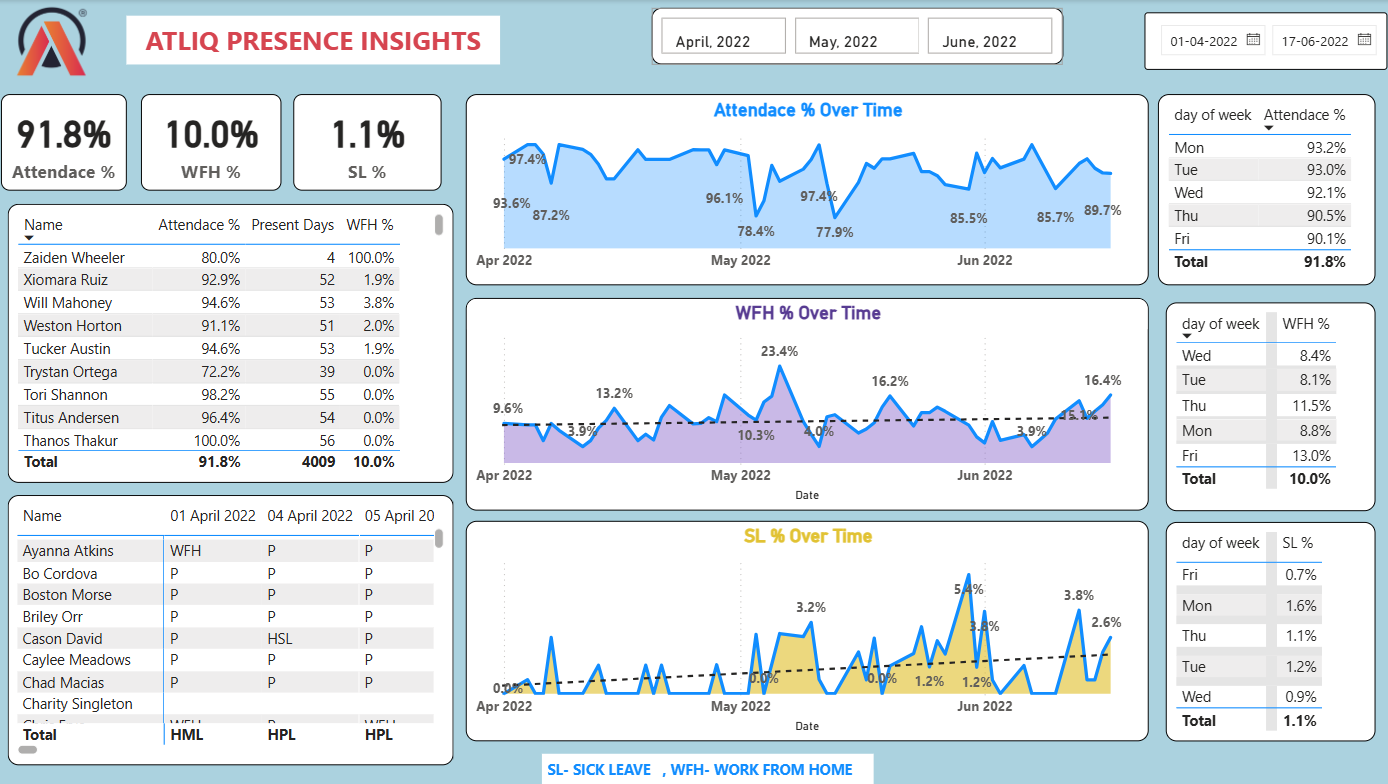

This screenshot's page, from the dashboard's own definition file:
{"tool":"powerbi","page":{"name":"Page 1","canvas":[1280,720],"ordinal":0},"visuals":[{"type":"advancedSlicerVisual","fields":{"Values":["Final Data.MMM YY"]},"box":[603.7,7.5,375.4,67.9],"z":0},{"type":"slicer","fields":{"Values":["Final Data.Date"]},"box":[1054.6,11.3,222.6,64.1],"z":1000},{"type":"card","fields":{"Values":["Measure Table (2).SL %"]},"box":[275.8,86.1,135.8,88.1],"z":2000},{"type":"card","fields":{"Values":["Measure Table (2).WFH %"]},"box":[135.8,86.1,128.6,88.1],"z":3000},{"type":"card","fields":{"Values":["Measure Table (2).Attendace %"]},"box":[8.3,86.1,115.1,88.1],"z":4000},{"type":"tableEx","fields":{"Values":["Final Data.Name","Measure Table (2).Attendace %","Measure Table (2).Present Days","Measure Table (2).WFH %"]},"box":[14.3,186.5,407.9,255.2],"z":5000},{"type":"pivotTable","fields":{"Rows":["Final Data.Name"],"Values":["Min(Final Data.Value)"],"Columns":["Final Data.Date"]},"box":[14.3,453,407.9,247],"z":6000},{"type":"image","box":[0,0,109.9,74.6],"z":7000},{"type":"textbox","box":[123.4,14.5,342.1,44.6],"z":8000},{"type":"stackedAreaChart","title":"Attendace % Over Time","fields":{"Y":["Measure Table (2).Attendace %"],"Category":["LocalDateTable_bf49ede3-3197-462d-92bc-44115a28e336.Date"]},"box":[433.6,86.1,625.2,175.3],"z":9000},{"type":"areaChart","title":"WFH % Over Time","fields":{"Y":["Measure Table (2).WFH %"],"Category":["LocalDateTable_bf49ede3-3197-462d-92bc-44115a28e336.Date"]},"box":[433.6,272.6,625.2,194.7],"z":10000},{"type":"areaChart","title":"SL % Over Time","fields":{"Y":["Measure Table (2).SL %"],"Category":["LocalDateTable_bf49ede3-3197-462d-92bc-44115a28e336.Date"]},"box":[433.6,476.6,625.2,201.9],"z":11000},{"type":"tableEx","fields":{"Values":["Final Data.day of week","Measure Table (2).Attendace %"]},"box":[1067,86.1,198.8,175.3],"z":12000},{"type":"tableEx","fields":{"Values":["Final Data.day of week","Measure Table (2).WFH %"]},"box":[1074.2,276.7,191.7,190.6],"z":13000},{"type":"tableEx","fields":{"Values":["Final Data.day of week","Measure Table (2).SL %"]},"box":[1074.2,477.6,191.7,200.9],"z":14000},{"type":"textbox","box":[503.3,689.8,303.4,29.7],"z":15000}]}

Visuals, with their boxes in screenshot pixels (x1, y1, x2, y2), scaled from the page's 1280x720 canvas onto the 1388x784 screenshot:
advancedSlicerVisual - Final Data.MMM YY: [655,8,1062,82]
slicer - Final Data.Date: [1144,12,1385,82]
card - Measure Table (2).SL %: [299,94,446,190]
card - Measure Table (2).WFH %: [147,94,287,190]
card - Measure Table (2).Attendace %: [9,94,134,190]
tableEx - Final Data.Name x Measure Table (2).Attendace %: [16,203,458,481]
pivotTable - Final Data.Name x Min(Final Data.Value): [16,493,458,762]
image: [0,0,119,81]
textbox: [134,16,505,64]
"Attendace % Over Time" stackedAreaChart: [470,94,1148,285]
"WFH % Over Time" areaChart: [470,297,1148,509]
"SL % Over Time" areaChart: [470,519,1148,739]
tableEx - Final Data.day of week x Measure Table (2).Attendace %: [1157,94,1373,285]
tableEx - Final Data.day of week x Measure Table (2).WFH %: [1165,301,1373,509]
tableEx - Final Data.day of week x Measure Table (2).SL %: [1165,520,1373,739]
textbox: [546,751,875,783]
